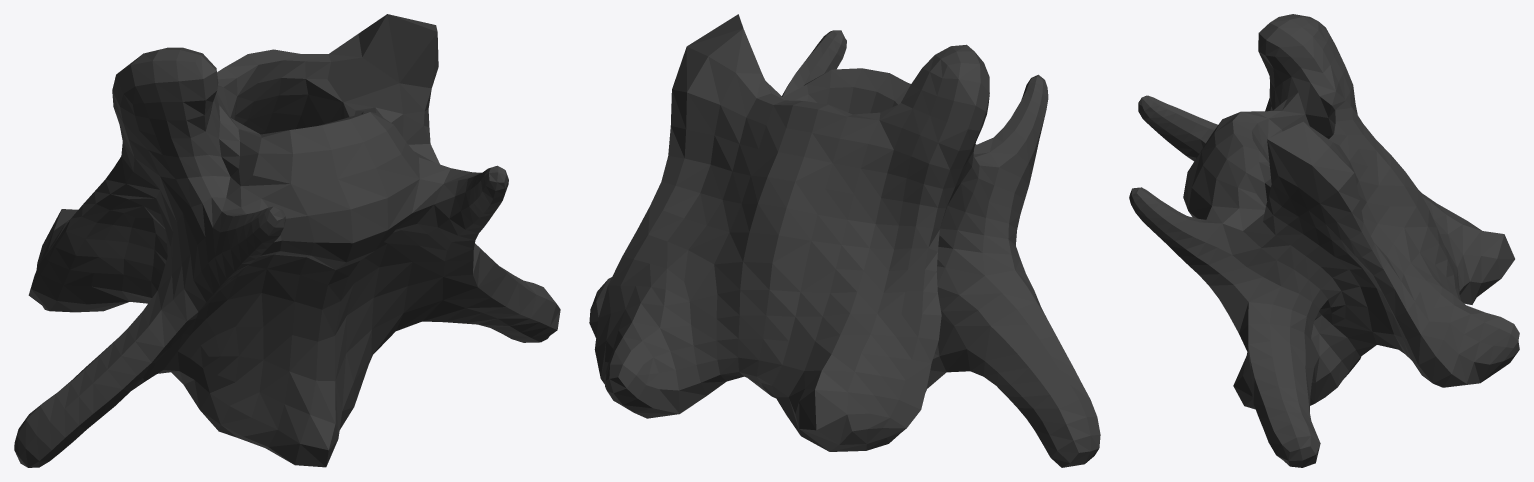
The picture shows the model from 3 angles, left to right: view 1: azimuth 30°, elevation 25°; view 2: azimuth 150°, elevation 25°; view 3: azimuth 270°, elevation 25°; orthographic projection. The views are drawn at different scales.
Visible parts, largest first — view 1: C3; view 2: C3; view 3: C3.
Part boxes in pixels (<box>): C3: <box>14,14,560,467</box>; C3: <box>589,14,1100,467</box>; C3: <box>1129,14,1519,467</box>.
Size of the model in its own units: 3.27 by 2.53 by 2.59.
1 material, 1 textured.
